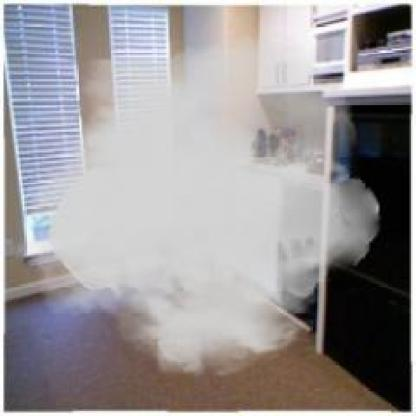Smoke: (12, 28, 380, 380)
